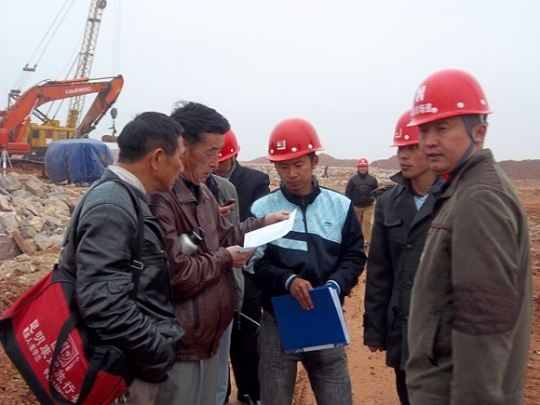none: (112, 113, 183, 197), (170, 102, 222, 186)
red: (412, 73, 489, 172), (266, 112, 318, 192), (389, 111, 425, 178), (209, 126, 239, 176), (356, 156, 369, 174)
